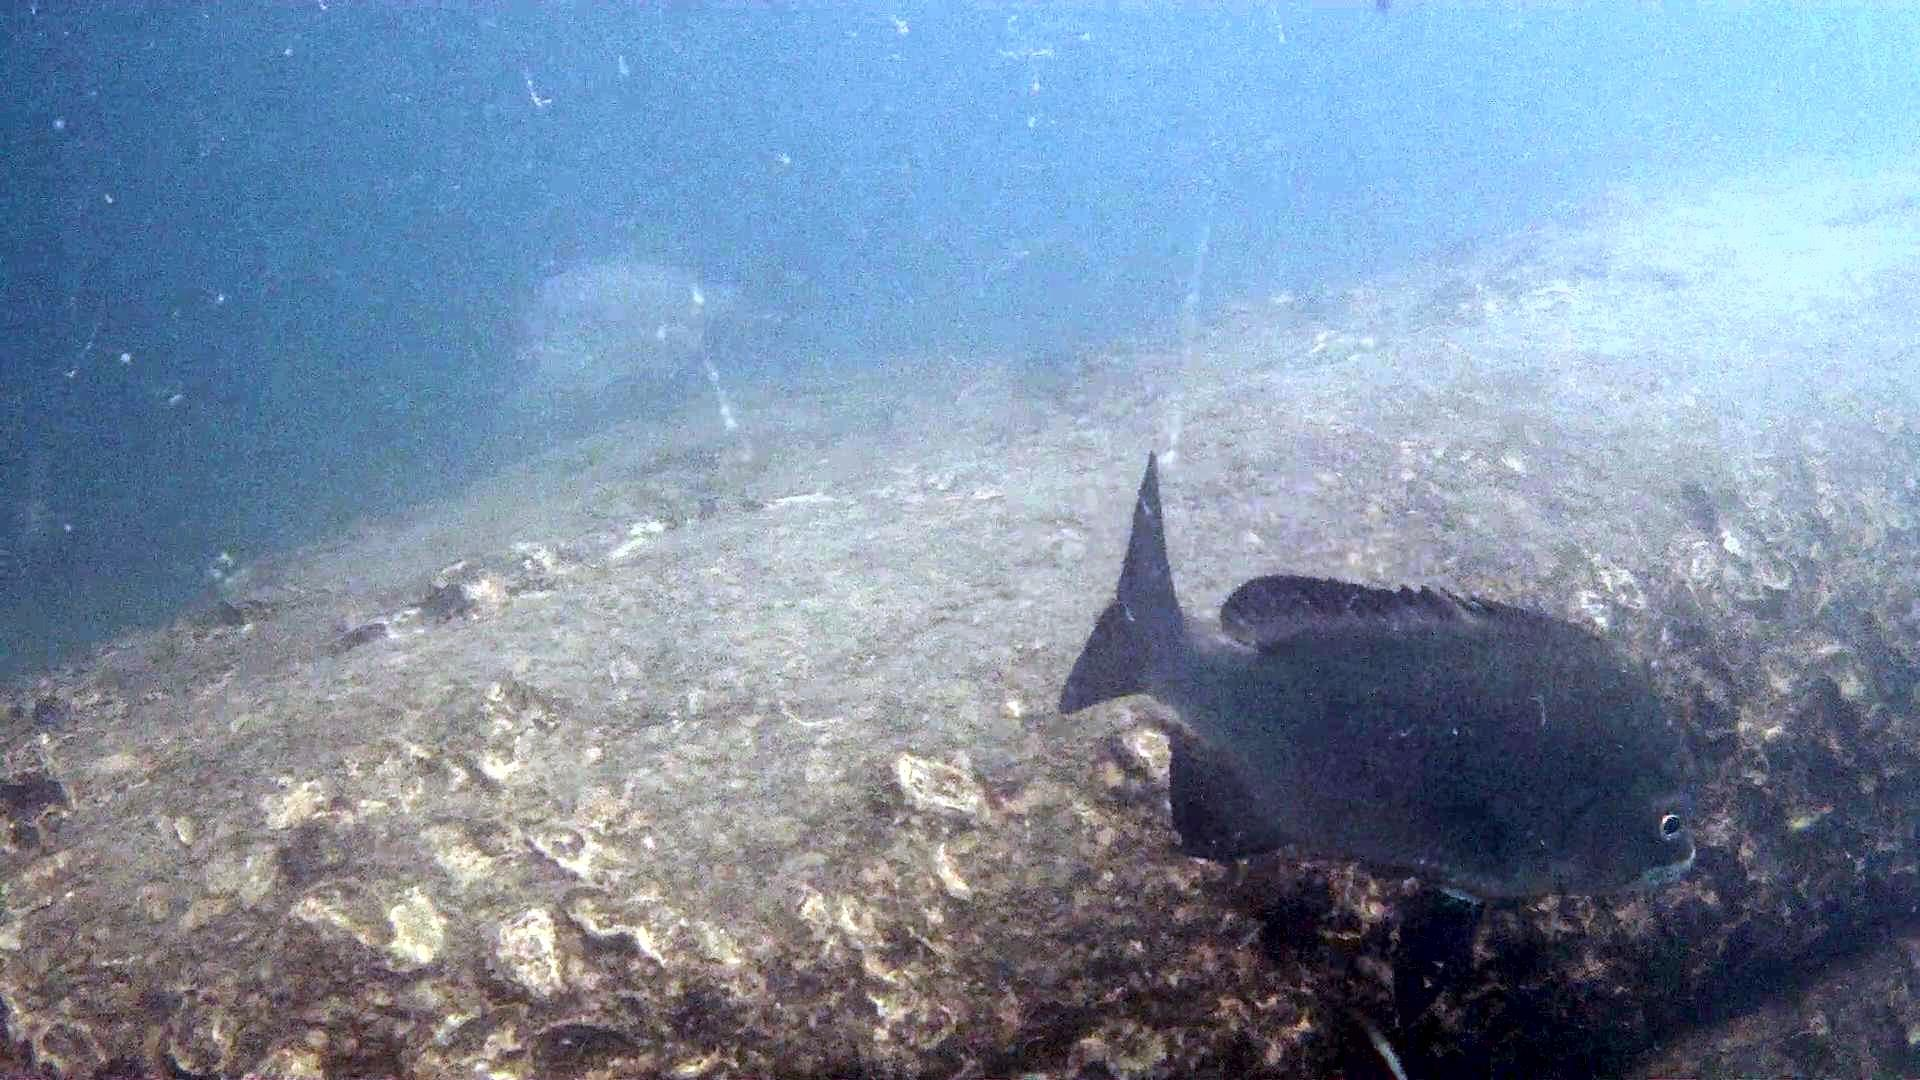acanthopagrus palmaris: (1043, 435, 1727, 1036)
